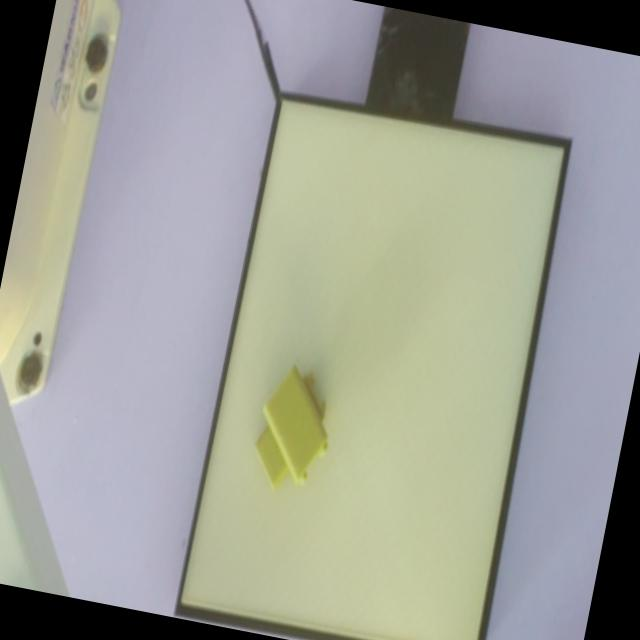bateria: (262, 363, 328, 486)
mesa: (175, 90, 572, 640)
